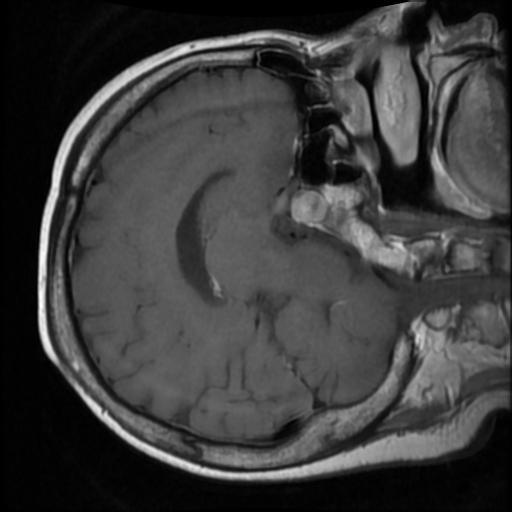pituitary tumour: (292, 189, 330, 223)
